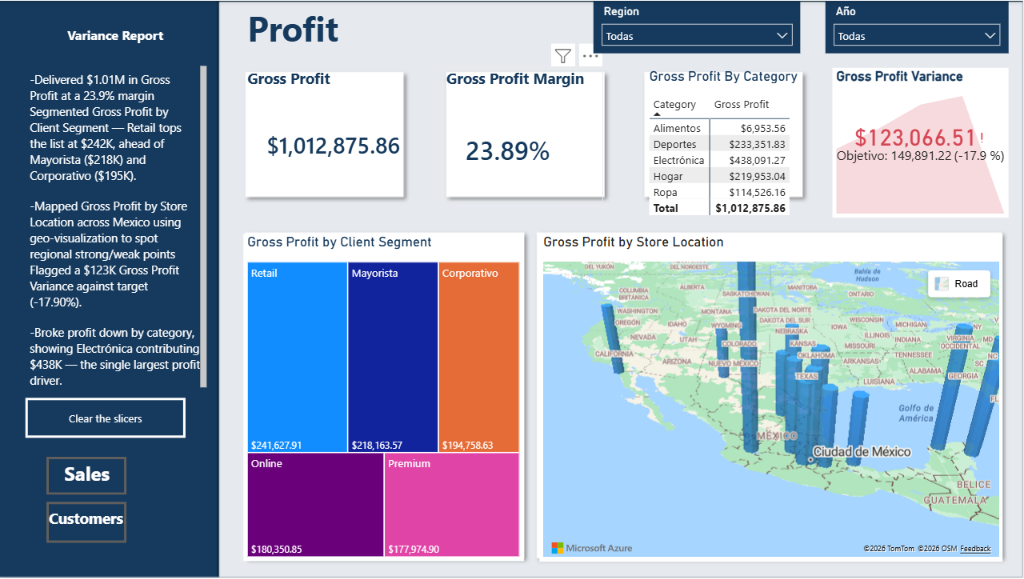

This screenshot's page, from the dashboard's own definition file:
{"tool":"powerbi","page":{"name":"Profit","canvas":[1280,720],"ordinal":1},"visuals":[{"type":"azureMap","title":"Gross Profit by Store Location","fields":{"Category":["Hoja1.Direccion"],"Size":["Mesures.Gross Profit"],"Value":["Mesures.Gross Profit"]},"box":[675.7,291.4,578.6,408.6],"z":0},{"type":"cardVisual","title":"Gross Profit","fields":{"Data":["Medidas.Gross Margin"]},"box":[305.7,84.3,231.4,154.3],"z":1000},{"type":"cardVisual","title":"Gross Profit Margin","fields":{"Data":["Medidas.Gross Margin %"]},"box":[554.3,84.3,201.4,167.1],"z":2000},{"type":"kpi","title":"Gross Profit Variance","fields":{"Goal":["Mesures.Last Year Gross Profit"],"Indicator":["Mesures.Gross Profit"],"TrendLine":["Dates.Date.Variación.Jerarquía de fechas.Año"]},"box":[1041.4,84.3,220,187.1],"z":3000},{"type":"textbox","box":[305.7,0,280,84.3],"z":4000},{"type":"slicer","fields":{"Values":["Dates.Date.Variación.Jerarquía de fechas.Año"]},"box":[1032.9,0,228.6,65.7],"z":5000},{"type":"slicer","fields":{"Values":["Stores.Region"]},"box":[742.9,0,258.6,65.7],"z":6000},{"type":"actionButton","box":[34.3,495.7,200,50],"z":7000},{"type":"treemap","title":"Gross Profit by Client Segment","fields":{"Group":["Costumers.Segment"],"Values":["Mesures.Gross Profit"]},"box":[305.7,291.4,350,408.6],"z":8000},{"type":"textbox","box":[34.6,570,151.4,55.7],"z":9000},{"type":"actionButton","box":[60,570,100,47.5],"z":10000},{"type":"pivotTable","title":"Gross Profit By Category","fields":{"Rows":["Product.Category"],"Values":["Mesures.Gross Profit"]},"box":[807.5,83.8,225,217.5],"z":11000},{"type":"textbox","box":[33.8,628.8,151.2,81.1],"z":11000,"group":"g1"},{"type":"group","id":"g1","title":"Grupo 1","box":[33.8,626.2,151.2,83.8],"z":12000},{"type":"textbox","box":[34.2,32.5,231.7,455.8],"z":13000},{"type":"actionButton","box":[60,626.2,100,51.2],"z":14000,"group":"g1"}]}

Visuals, with their boxes in screenshot pixels (x1, y1, x2, y2), scaled from the page's 1280x720 canvas onto the 1024x579 screenshot:
"Gross Profit by Store Location" azureMap: [541,234,1003,563]
"Gross Profit" cardVisual: [245,68,430,192]
"Gross Profit Margin" cardVisual: [443,68,605,202]
"Gross Profit Variance" kpi: [833,68,1009,218]
textbox: [245,0,469,68]
slicer - Dates.Date.Variación.Jerarquía de fechas.Año: [826,0,1009,53]
slicer - Stores.Region: [594,0,801,53]
actionButton: [27,399,187,439]
"Gross Profit by Client Segment" treemap: [245,234,525,563]
textbox: [28,458,149,503]
actionButton: [48,458,128,497]
"Gross Profit By Category" pivotTable: [646,67,826,242]
textbox: [27,506,148,571]
"Grupo 1" group: [27,504,148,571]
textbox: [27,26,213,393]
actionButton: [48,504,128,545]
